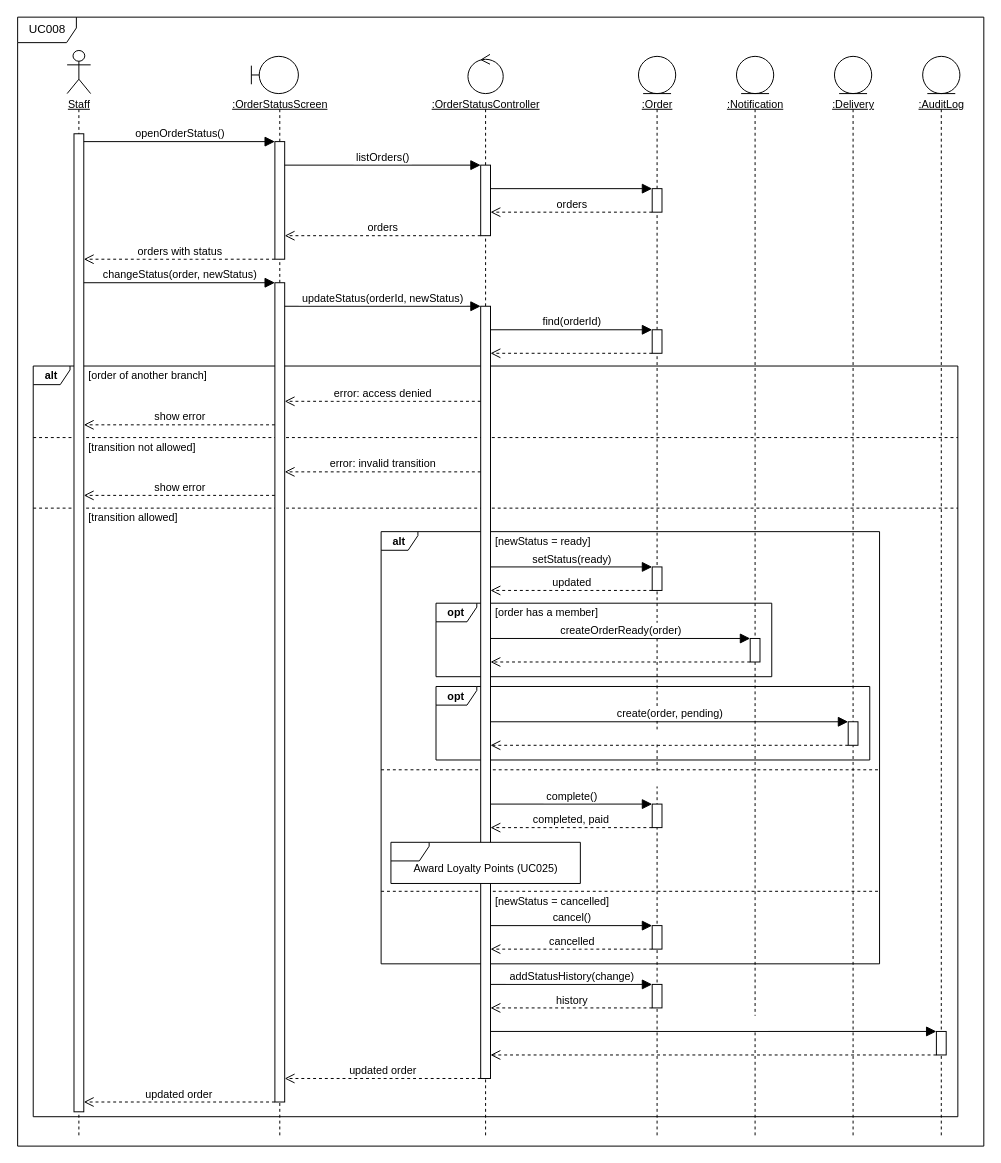
Image size: 1001x1163. Some labels were removed from this diagram. The box of each missing label's shape, as (x1, y1, x2, y2) in pixels:
[delivery order]: (494, 688, 571, 703)
[newStatus = completed (pickup)]: (494, 771, 662, 786)
delivery: (648, 729, 690, 744)
entry: (699, 1039, 727, 1054)
findByBranch(branchId): (511, 172, 631, 187)
notification: (592, 646, 648, 661)
order: (556, 337, 585, 352)
record(statusChange): (658, 1015, 768, 1030)
ref: (390, 841, 580, 883)
